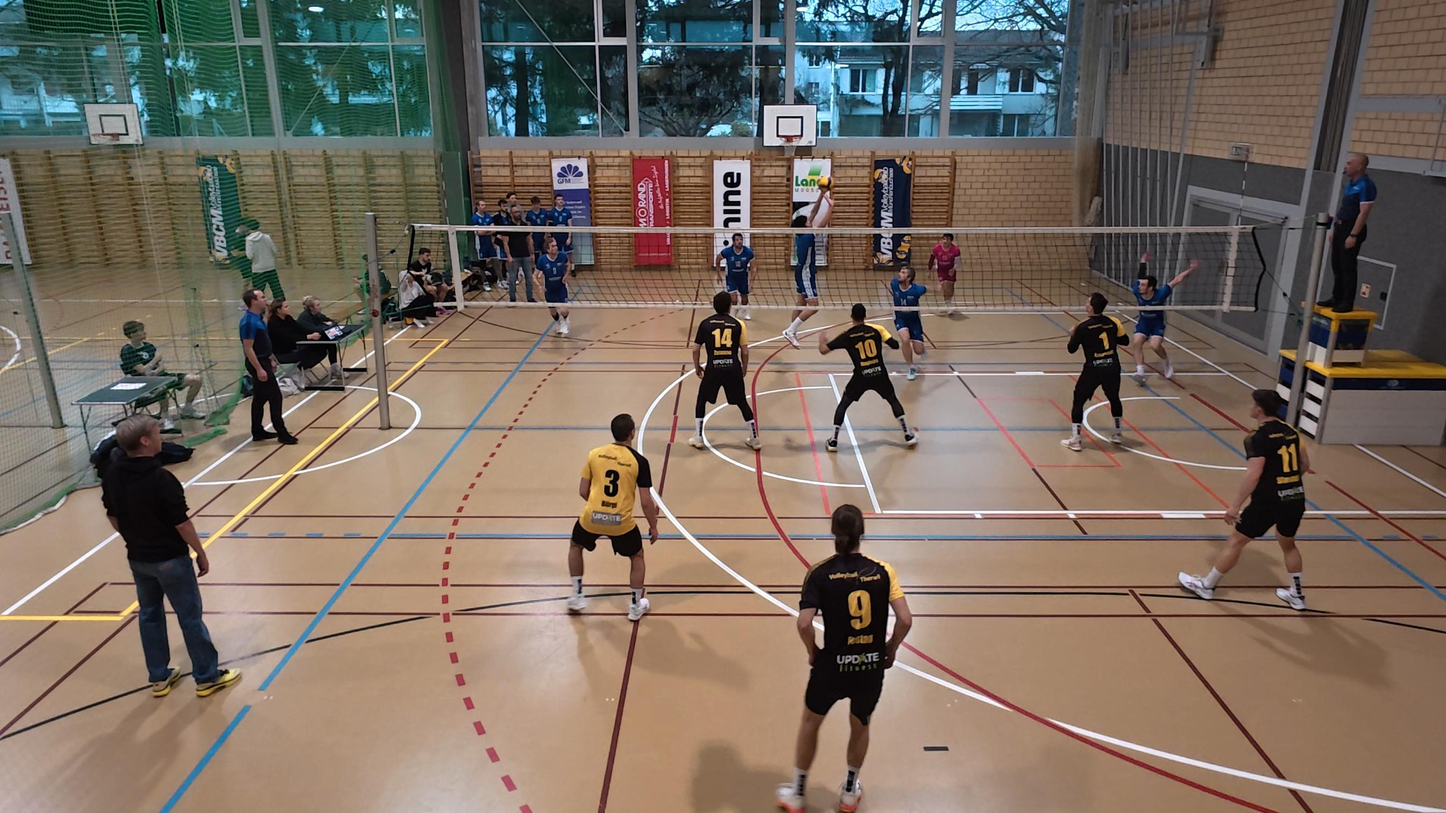alzata: (781, 182, 834, 348)
